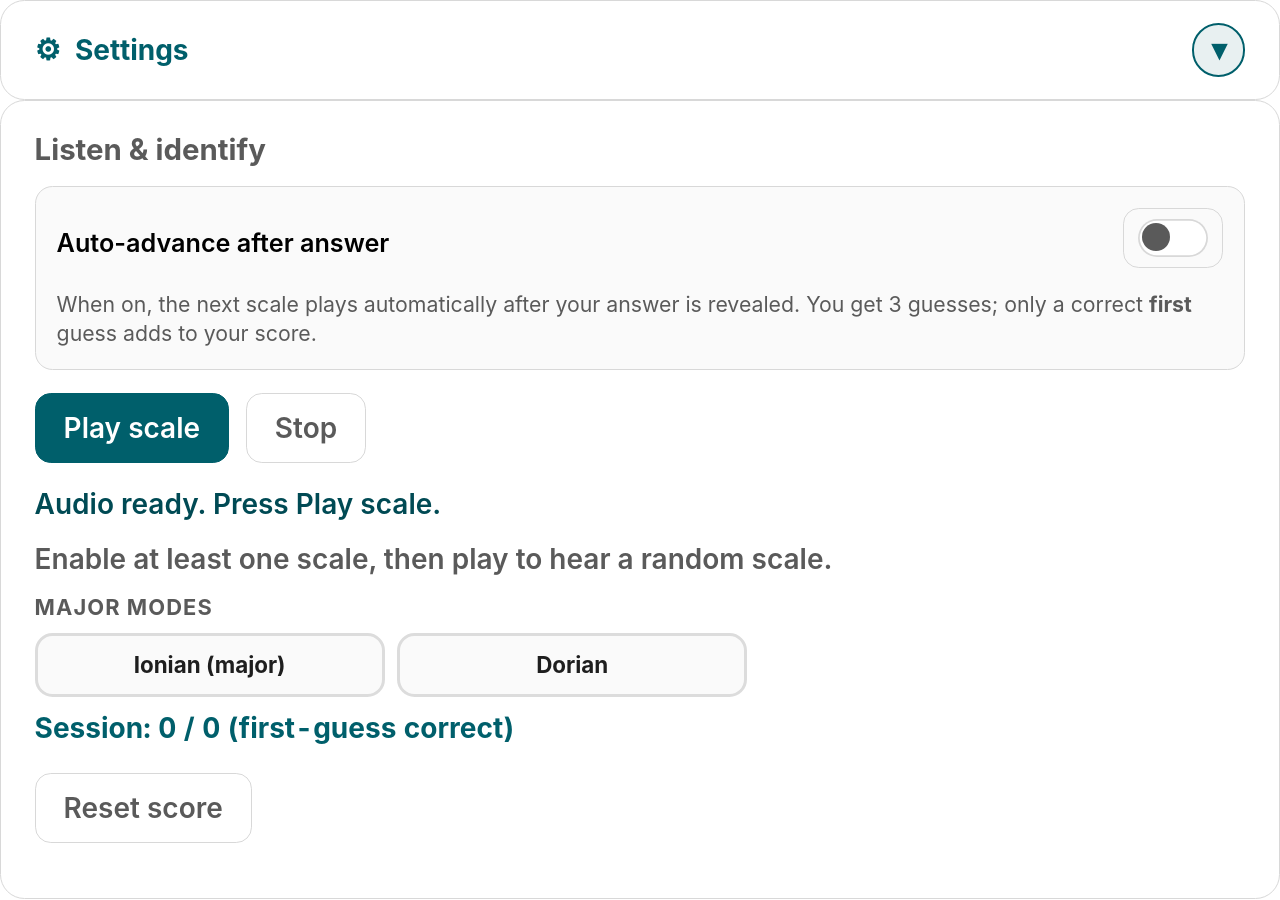
Test case: ScaleTopic — first-guess scoring (docs/05-topics/02 §6) › counts a wrong-then-right answer as total+1, correct+0
Click the button "Play scale": click(132, 428) top-left (35, 393), bottom-right (229, 463)
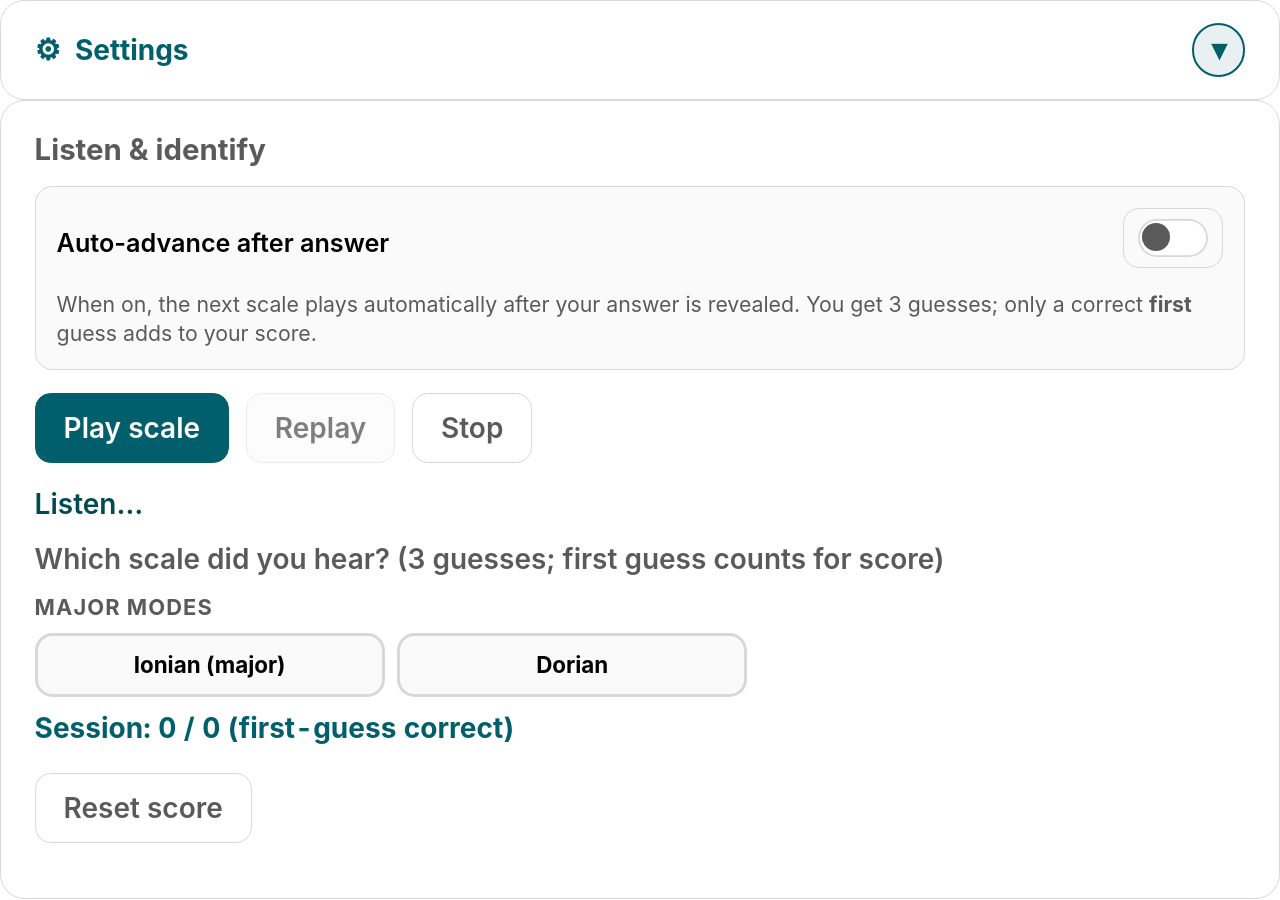
Click the button "Dorian": click(572, 665) top-left (397, 632), bottom-right (747, 697)
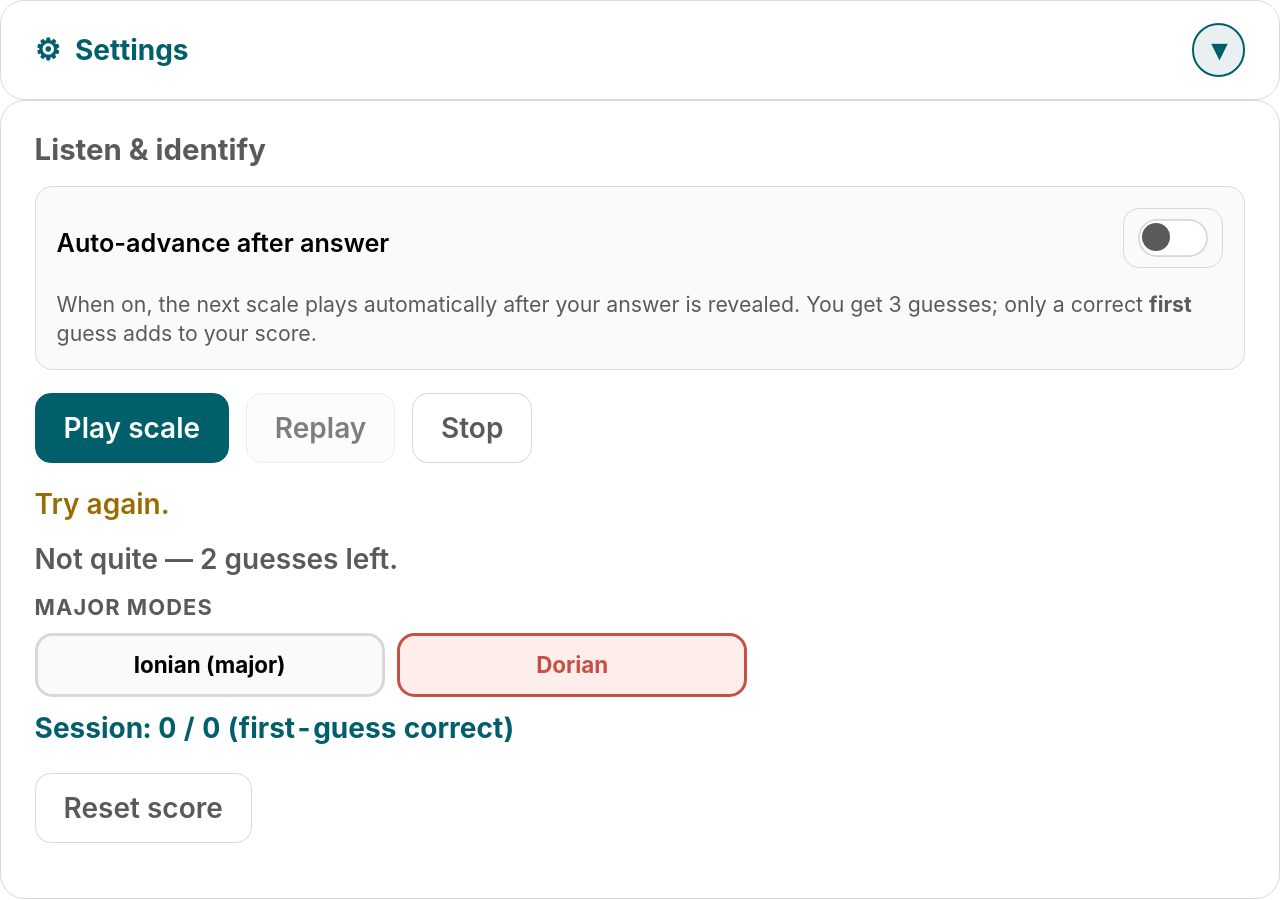
Click the button "Ionian (major)": click(210, 665) top-left (35, 632), bottom-right (385, 697)
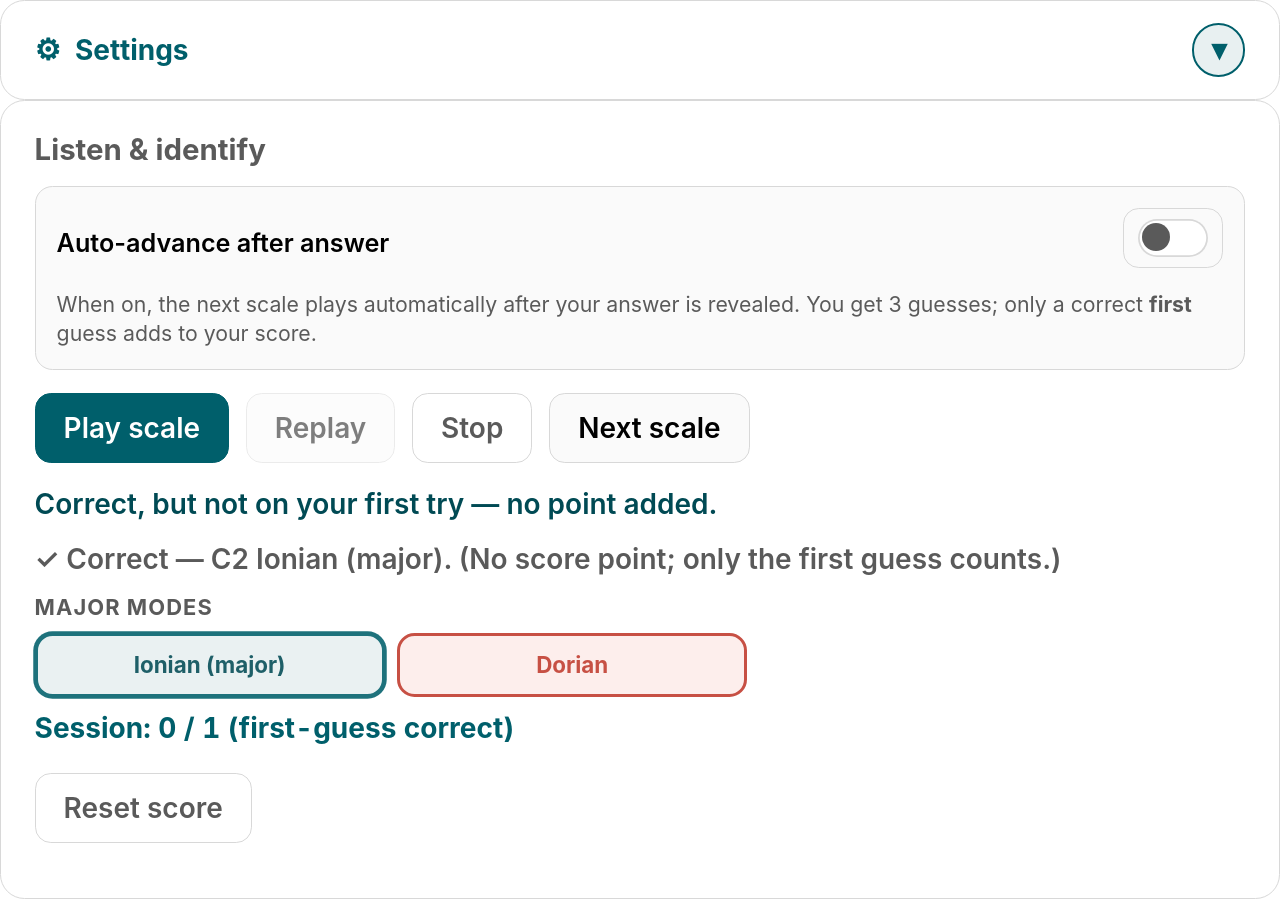
Expected: the text "Session: 0 / 1 (first-guess correct)" is shown, top-left (35, 711), bottom-right (514, 745)
